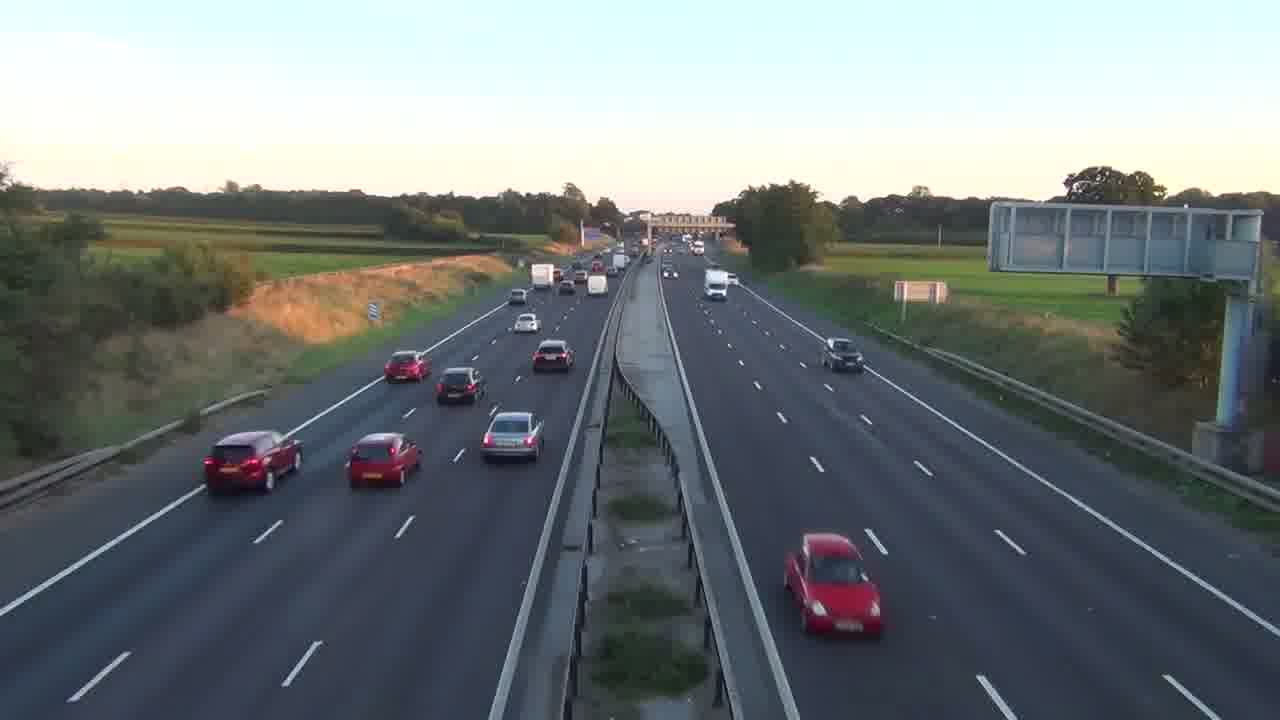car: (783, 531, 883, 638), (201, 429, 303, 495), (344, 431, 421, 488), (479, 410, 546, 463), (433, 366, 485, 405), (383, 349, 432, 383), (531, 338, 576, 373), (511, 313, 540, 334)
truck: (704, 269, 730, 300)
